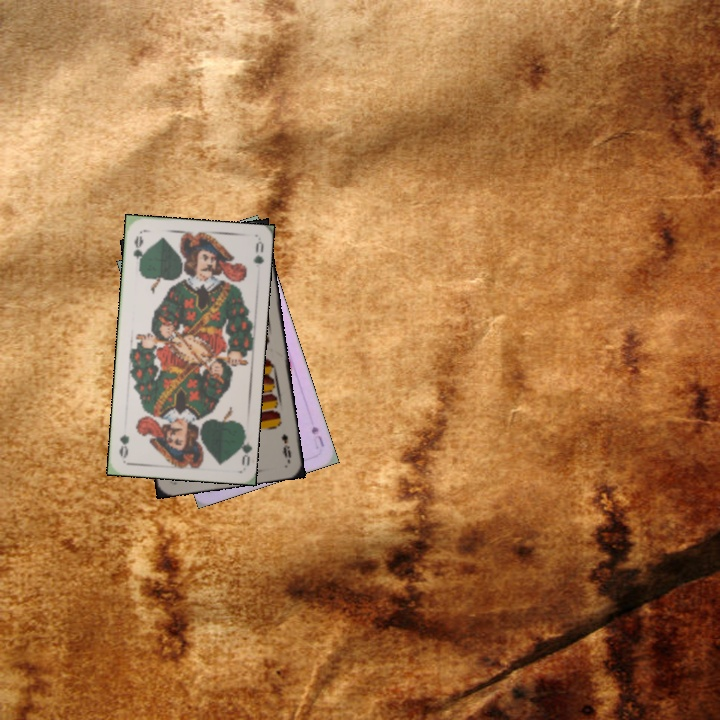E9: (278, 430, 294, 463)
GO: (233, 427, 253, 468), (129, 232, 146, 271)
SU: (307, 422, 327, 452)
